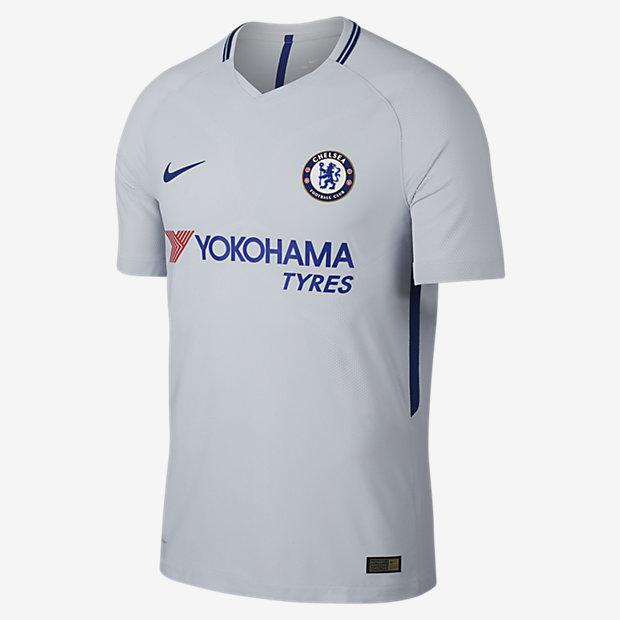teeshirt: (109, 13, 512, 620)
